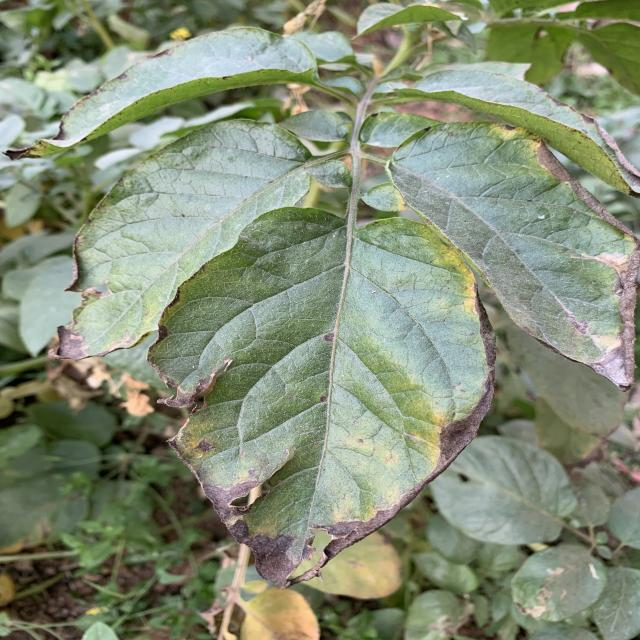lateblight: (153, 276, 263, 522), (373, 372, 493, 530), (215, 492, 313, 585), (322, 522, 373, 561)
